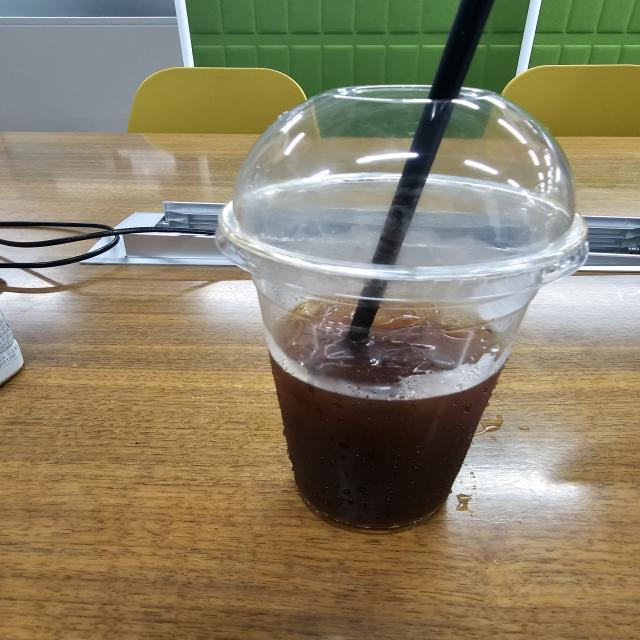cup: (212, 84, 594, 540)
